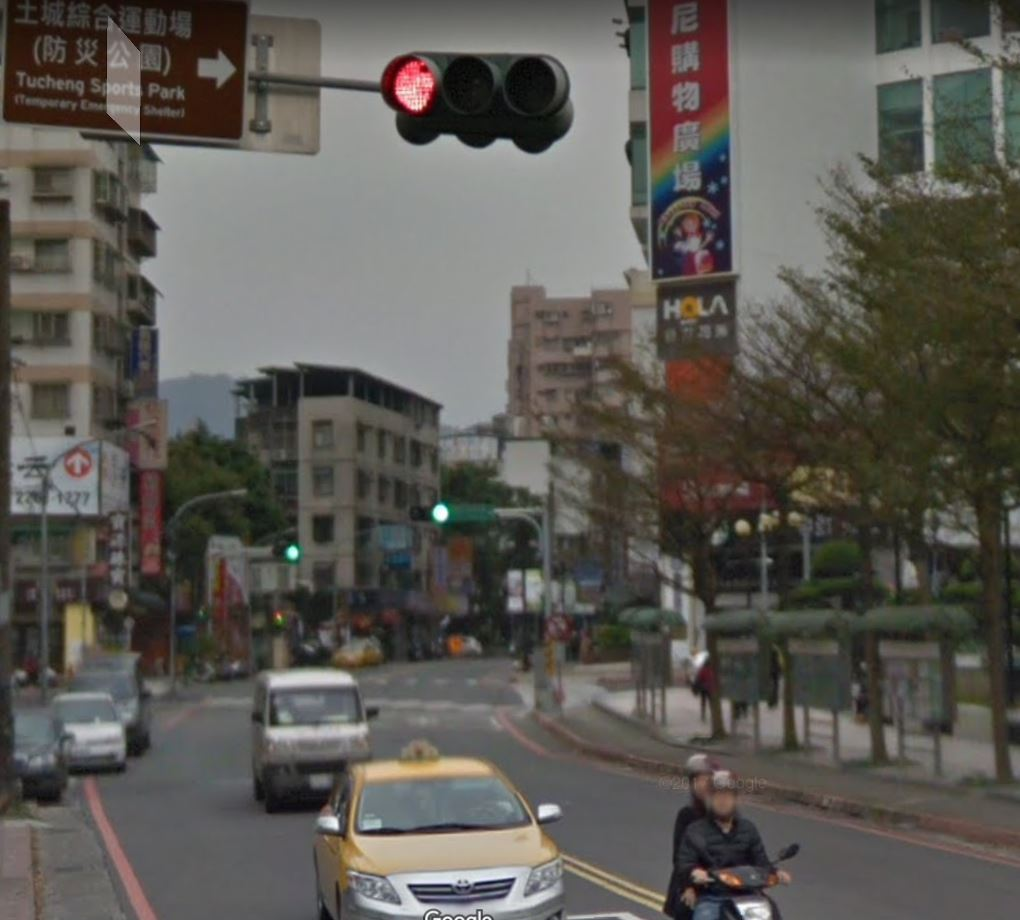Traffic_light_red: (380, 48, 571, 126)
